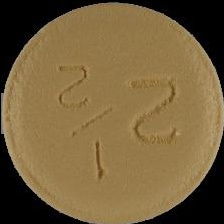55154-0612: (0, 0, 224, 224)
